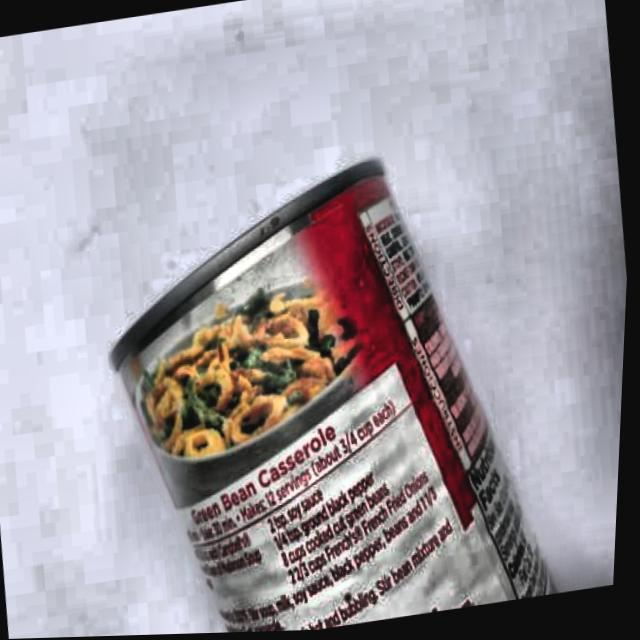Cans: (79, 117, 597, 638)
